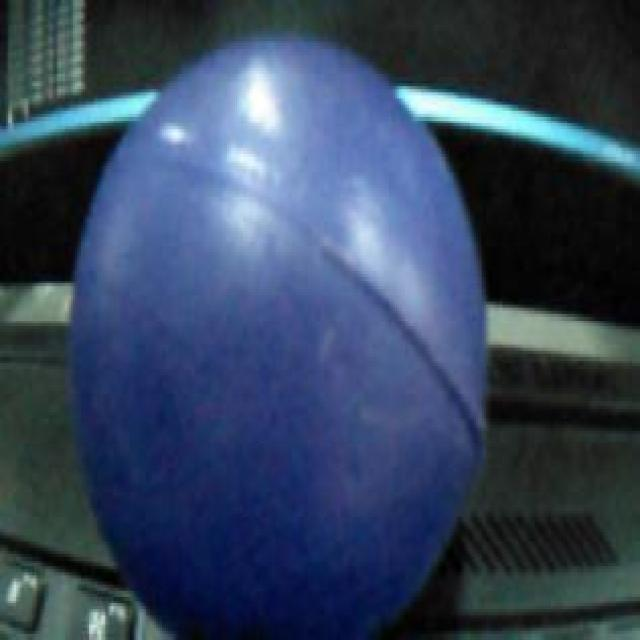BallPurple: (67, 21, 487, 640)
